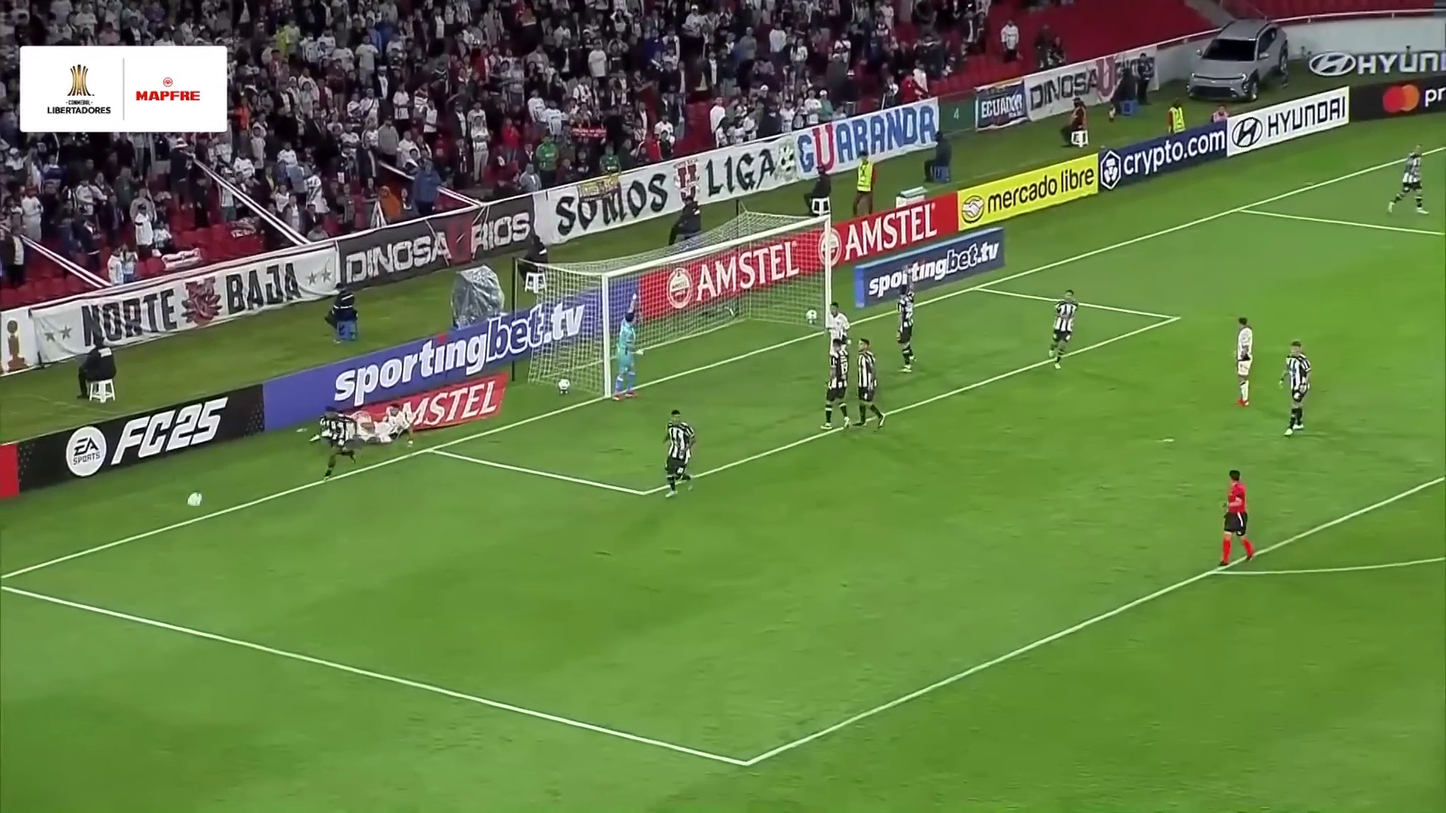ball: (185, 491, 205, 508)
player: (1274, 340, 1318, 439), (610, 292, 646, 402), (1042, 288, 1085, 371), (818, 339, 856, 432), (1384, 146, 1431, 218), (661, 408, 697, 499), (1227, 315, 1261, 408), (853, 337, 887, 429), (318, 407, 359, 482), (891, 282, 922, 375), (358, 403, 415, 446), (821, 302, 854, 371)
referee: (1214, 467, 1260, 568)
